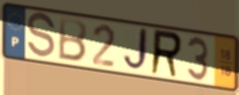2: (91, 22, 118, 70)
3: (186, 35, 210, 83)
B: (56, 16, 89, 64)
J: (121, 26, 150, 75)
R: (149, 28, 185, 81)
S: (26, 11, 57, 61)
